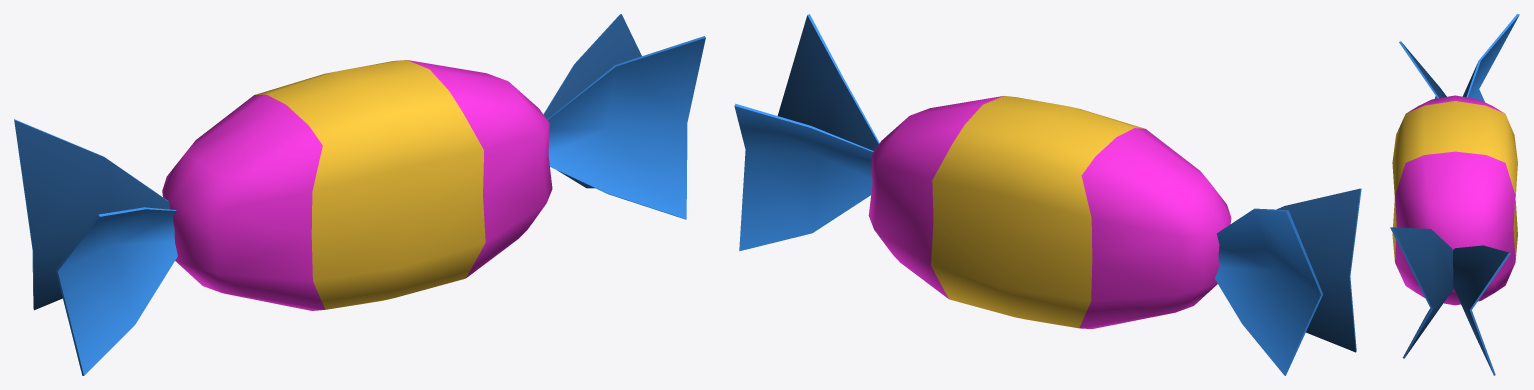
File: Candy1.fbx
3 views of the same model, side by side, from view 1: azimuth 30°, elevation 25°; view 2: azimuth 150°, elevation 25°; view 3: azimuth 270°, elevation 25° (orthographic). The views are drawn at different scales.
Parts seen in each view (by area): view 1: Box014; view 2: Box014; view 3: Box014.
Boxes of the visible parts, x1,y1,x2,y2 form: Box014: (14,14,705,375); Box014: (734,14,1361,375); Box014: (1390,14,1519,375).
Size of the model in its own units: 311 by 76.68 by 100.
Materials: 1 (1 with a texture image).
